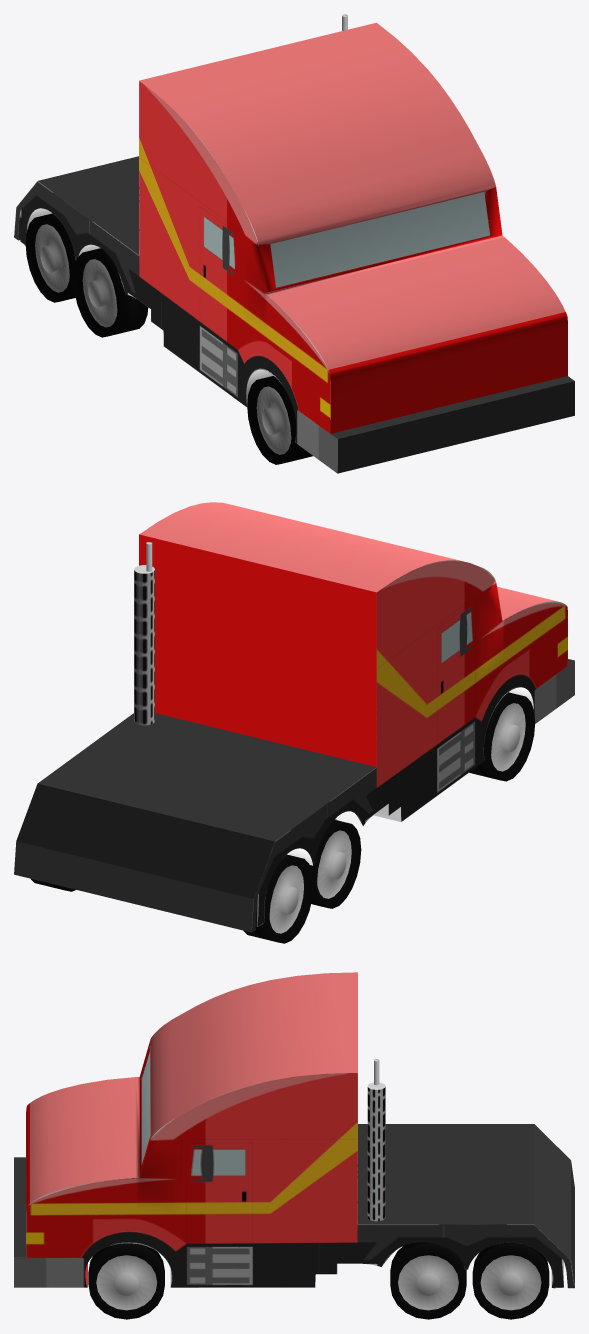
The picture shows the model from 3 angles, top to bottom: view 1: azimuth 30°, elevation 25°; view 2: azimuth 150°, elevation 25°; view 3: azimuth 270°, elevation 25°; orthographic projection. The views are drawn at different scales.
Parts seen in each view (by area): view 1: FancyTruckBody, Tyre.004, Tyre.005, Tyre.003; view 2: FancyTruckBody, Tyre.005, Tyre.003, Cylinder, Tyre.004; view 3: FancyTruckBody, Tyre.002, Tyre, Tyre.001, Cylinder.
Boxes of the visible parts, box(x1,y1,x2,y2) form: FancyTruckBody: box(14, 22, 574, 473); Tyre.004: box(73, 248, 148, 337); Tyre.005: box(247, 376, 312, 464); Tyre.003: box(25, 213, 75, 302); FancyTruckBody: box(14, 502, 574, 932); Tyre.005: box(469, 692, 535, 781); Tyre.003: box(243, 854, 313, 943); Cylinder: box(134, 542, 154, 725); Tyre.004: box(310, 819, 361, 908); FancyTruckBody: box(14, 972, 574, 1288); Tyre.002: box(472, 1242, 549, 1319); Tyre: box(88, 1243, 164, 1319); Tyre.001: box(390, 1242, 466, 1319); Cylinder: box(367, 1059, 385, 1221).
Bounding box in the file's own units: 1.34 × 1.5 × 3.06.
10 materials, 3 textured.
